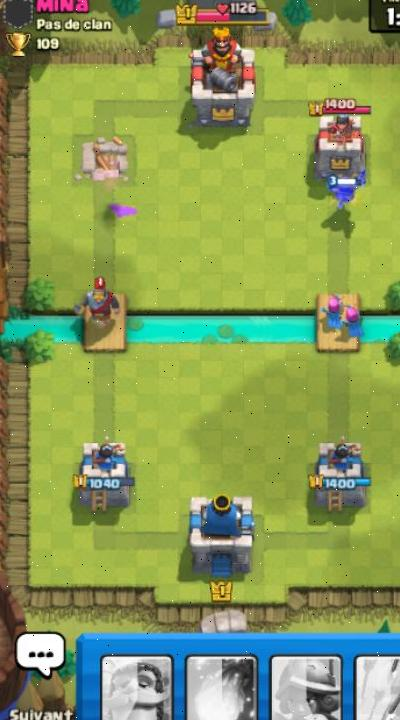enemy_knight: (72, 273, 126, 323)
player_archers: (319, 291, 346, 331), (341, 298, 367, 336)
player_mini_pekka: (320, 165, 371, 211)
